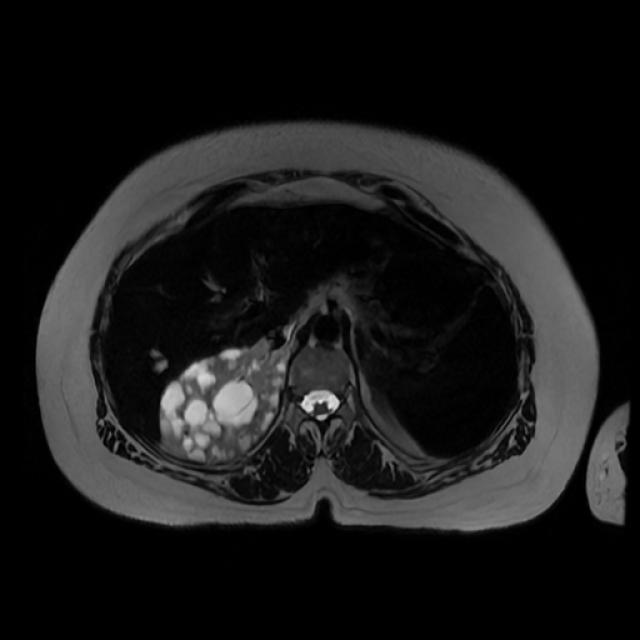sag: (161, 347, 287, 459)
